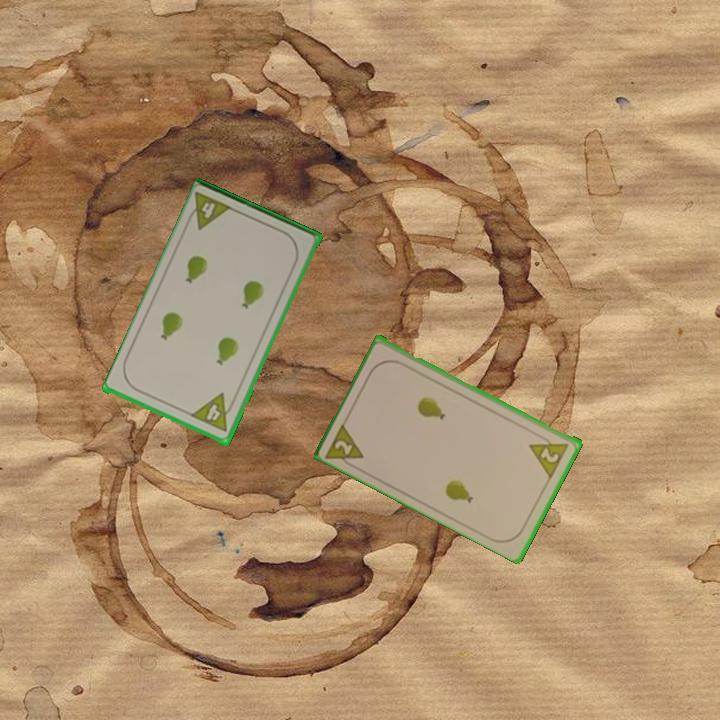2p: (322, 418, 368, 472), (526, 431, 572, 480)
4p: (182, 188, 236, 233), (188, 390, 238, 435)
